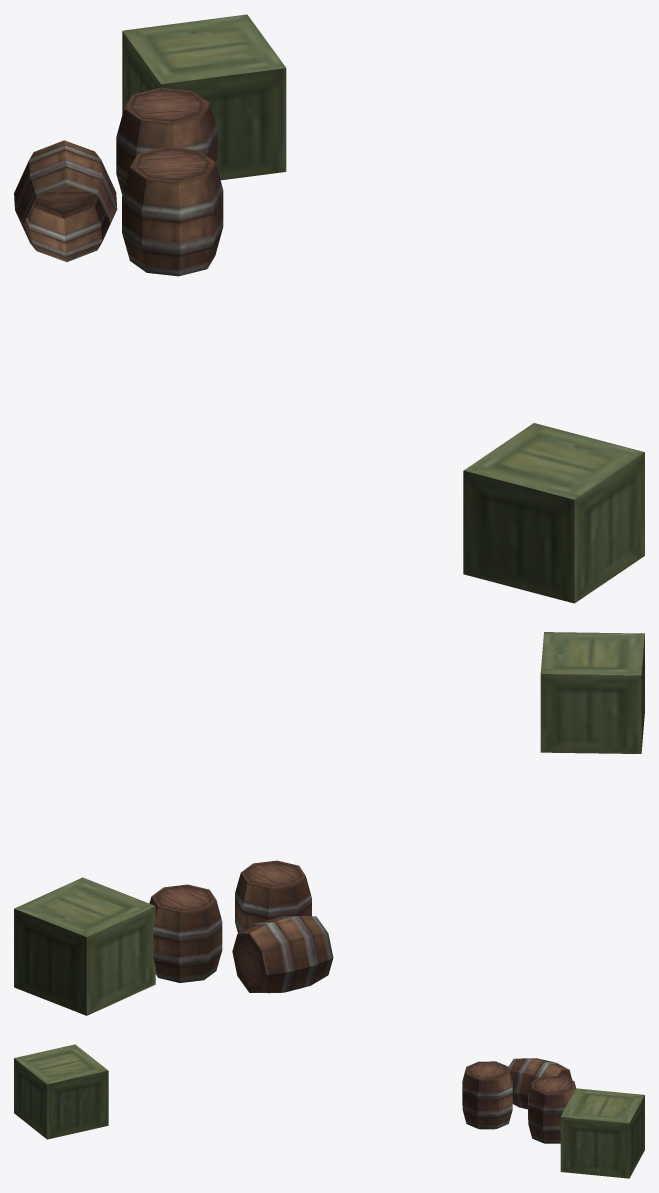
Rendered from Area_02_3.fbx.
The picture shows the model from 3 angles, top to bottom: view 1: azimuth 30°, elevation 25°; view 2: azimuth 150°, elevation 25°; view 3: azimuth 270°, elevation 25°; orthographic projection. The views are drawn at different scales.
Visible parts, largest first — view 1: Area_02_3; view 2: Area_02_3; view 3: Area_02_3.
Boxes of the visible parts, x1,y1,x2,y2 form: Area_02_3: (14, 14, 644, 603); Area_02_3: (14, 632, 644, 1015); Area_02_3: (14, 1044, 644, 1178).
Bounding box in the file's own units: 343 × 107 × 1095.
